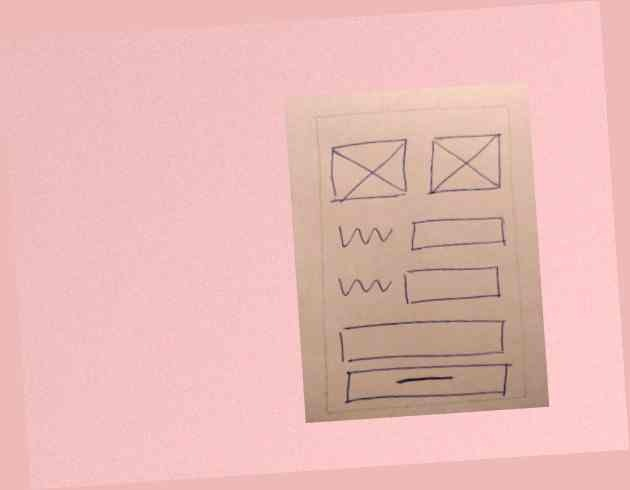button: (339, 357, 515, 408)
image: (420, 127, 509, 199), (325, 136, 416, 204)
text: (333, 267, 400, 305), (333, 216, 398, 254)
text_input: (334, 311, 511, 368), (399, 260, 506, 309), (406, 210, 513, 258)
